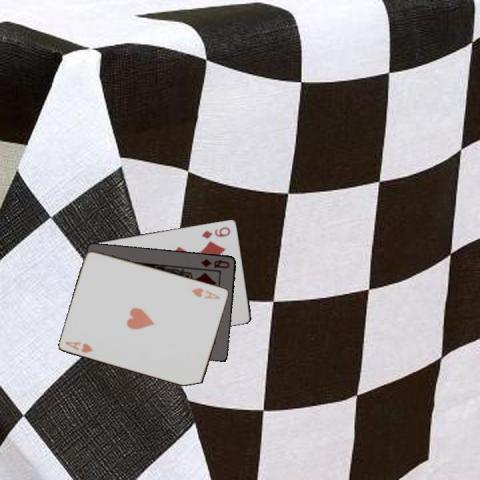9d: (199, 224, 232, 240)
Ah: (189, 285, 222, 300), (63, 339, 94, 354)
Qd: (198, 256, 231, 270)
